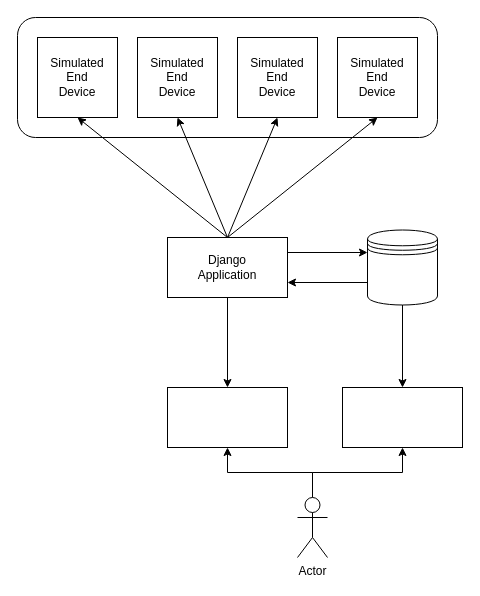
Some shapes in this 480 by 596 pixel diagram are drawn without their labels. Here are the shapes that lost their labels. From the top down, the box of each, then its label:
(366, 229, 438, 305): Time-series Database
(166, 386, 288, 448): Front End
(342, 386, 462, 448): Monitoring Service
